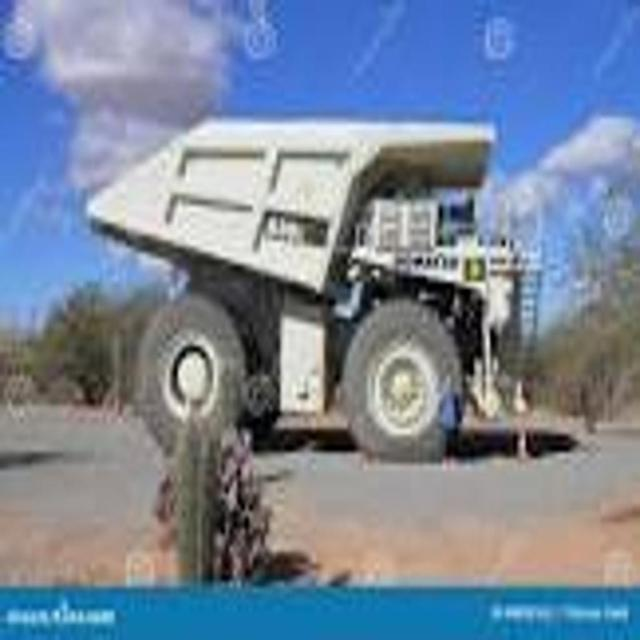dump_truck: (81, 109, 539, 467)
